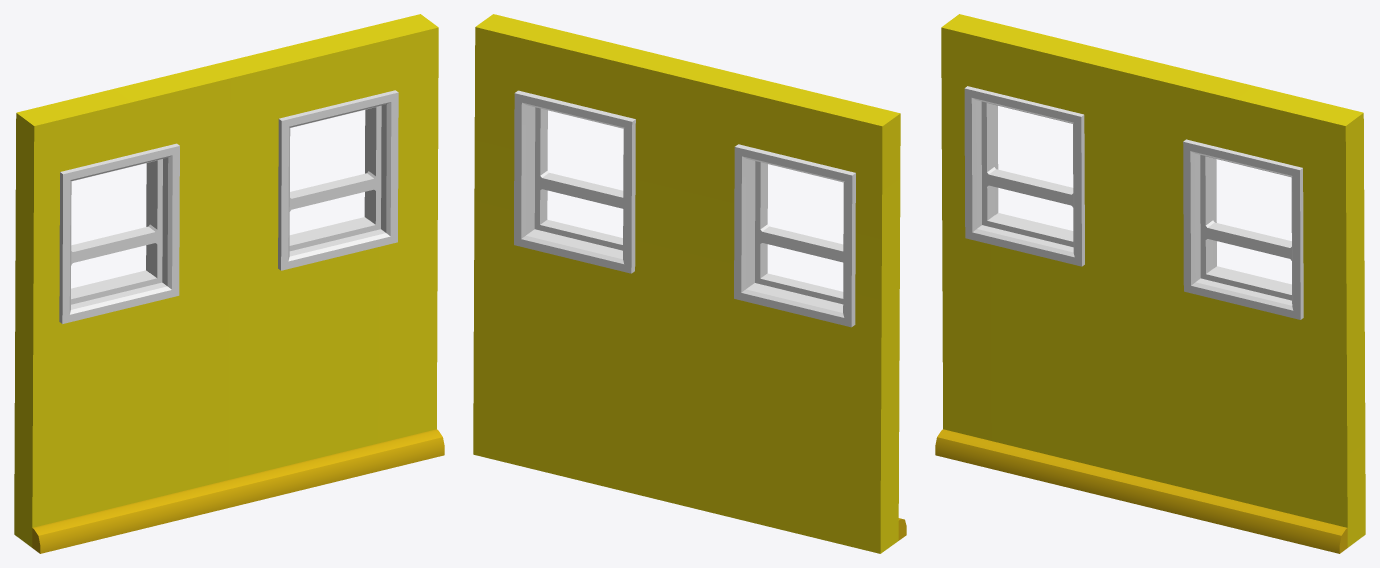
Rendered from Y_Wall003.fbx.
3 views of the same model, side by side, from view 1: azimuth 30°, elevation 25°; view 2: azimuth 150°, elevation 25°; view 3: azimuth 330°, elevation 25° (orthographic).
Parts seen in each view (by area): view 1: Wall003.003; view 2: Wall003.003; view 3: Wall003.003.
Boxes of the visible parts, x1=… form: Wall003.003: x1=14, y1=14, x2=444, y2=553; Wall003.003: x1=473, y1=14, x2=906, y2=553; Wall003.003: x1=935, y1=14, x2=1365, y2=553.
Size of the model in its own units: 250 by 250 by 30.71.
Materials: 1 (1 with a texture image).
